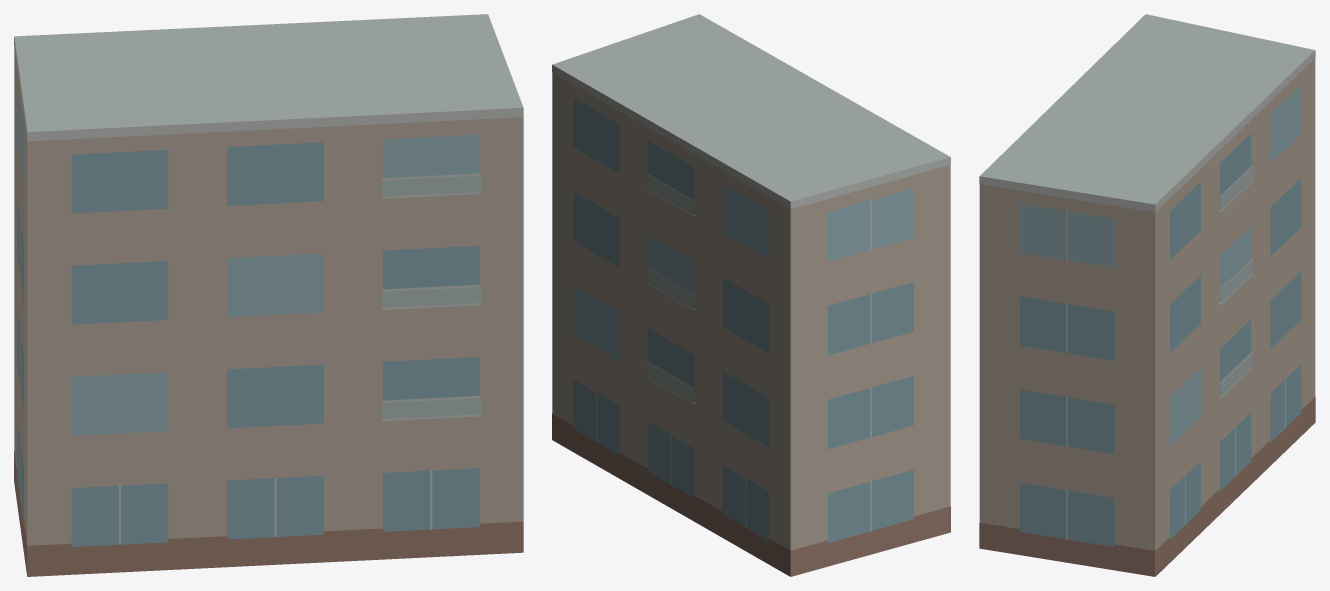
Rendered from survey-upis-32734759.glb.
3 renders of one model, left to right at view 1: azimuth 30°, elevation 25°; view 2: azimuth 150°, elevation 25°; view 3: azimuth 270°, elevation 25°, orthographic. The views are drawn at different scales.
Visible parts, largest first — view 1: survey-upis-32734759.tmp; view 2: survey-upis-32734759.tmp; view 3: survey-upis-32734759.tmp.
Part boxes in pixels (x1=…): survey-upis-32734759.tmp: x1=14, y1=14, x2=523, y2=576; survey-upis-32734759.tmp: x1=552, y1=14, x2=950, y2=576; survey-upis-32734759.tmp: x1=979, y1=14, x2=1315, y2=576.
Bounding box in the file's own units: 12.85 × 11.7 × 9.58.
